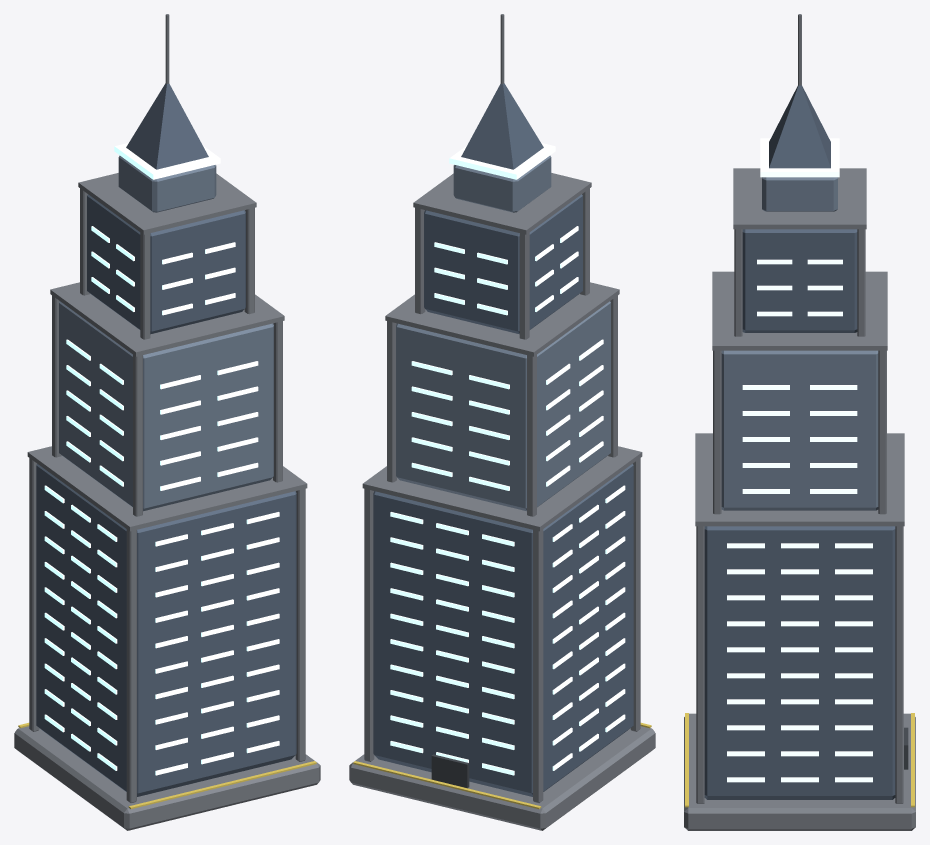
File: zone_high_4.glb
3 views of the same model, side by side, from view 1: azimuth 30°, elevation 25°; view 2: azimuth 150°, elevation 25°; view 3: azimuth 270°, elevation 25° (orthographic). The views are drawn at different scales.
Parts seen in each view (by area): view 1: zone_high_4, detail; view 2: zone_high_4, detail; view 3: zone_high_4, detail.
Part boxes in pixels (x1,y1,x2,y2): zone_high_4: [14, 83, 320, 830]; detail: [18, 14, 316, 809]; zone_high_4: [349, 83, 655, 830]; detail: [353, 14, 651, 809]; zone_high_4: [684, 85, 915, 830]; detail: [685, 14, 914, 807].
Bounding box in the file's own units: 27.5 × 101 × 27.5.
